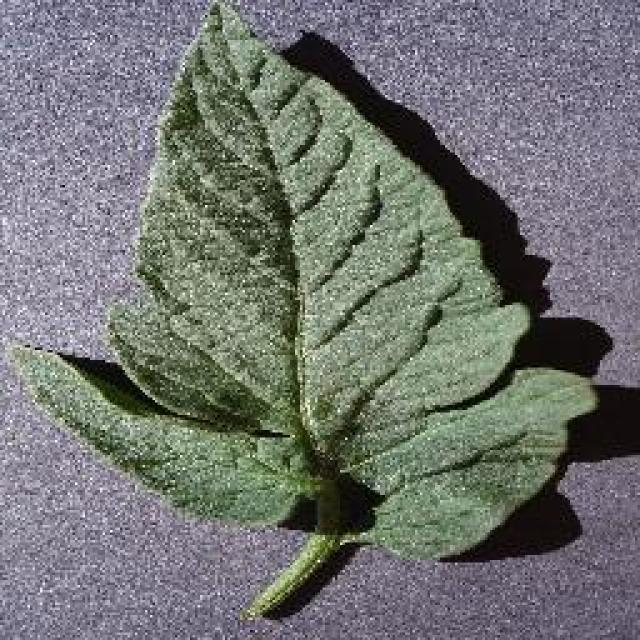Tomato healthy leaf: (26, 9, 589, 609)
